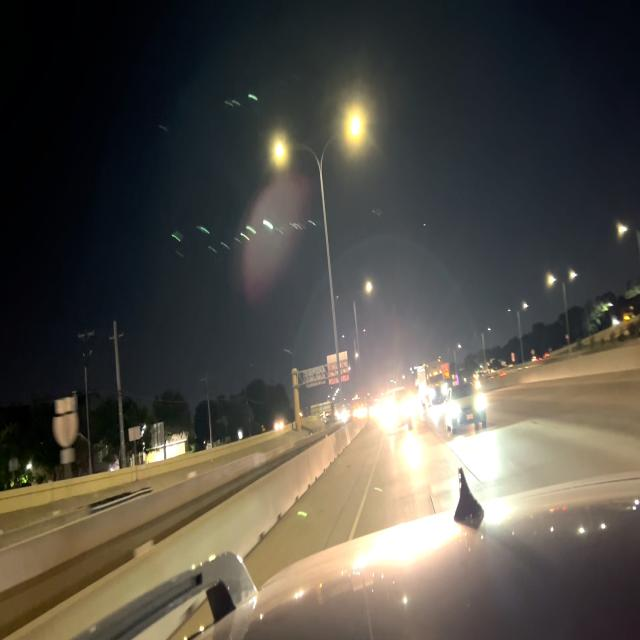back-of-sign: (53, 390, 77, 467), (303, 353, 351, 389)
